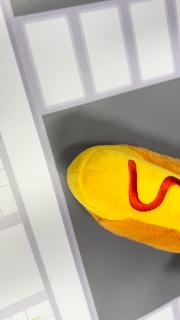hotdog: (66, 143, 180, 254)
